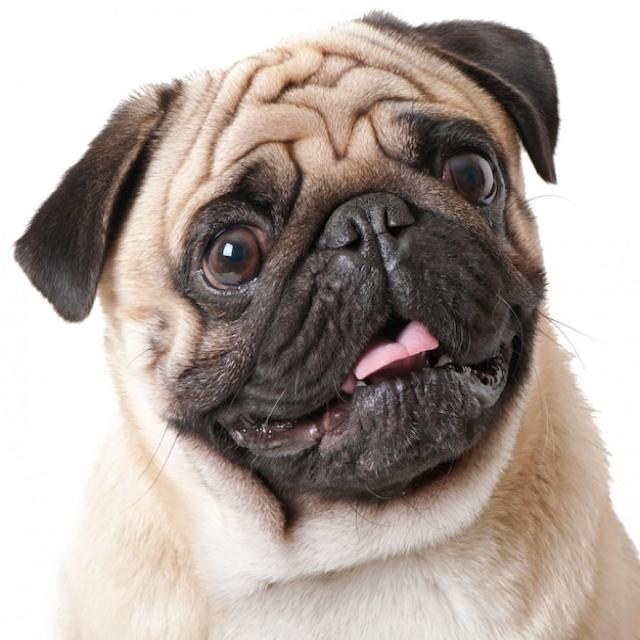Dog: (16, 9, 640, 640)
